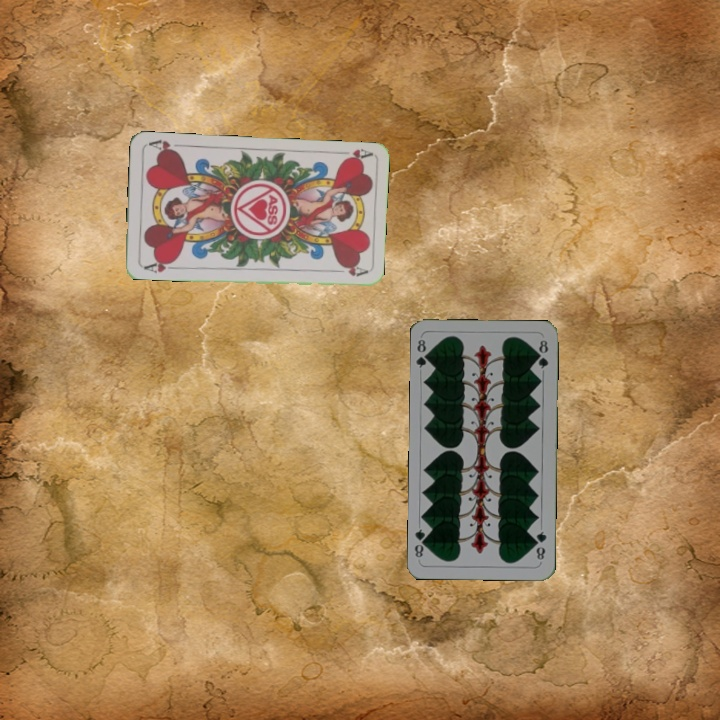G8: (413, 336, 433, 370), (531, 527, 549, 562)
HA: (140, 256, 179, 276), (333, 145, 373, 164)
